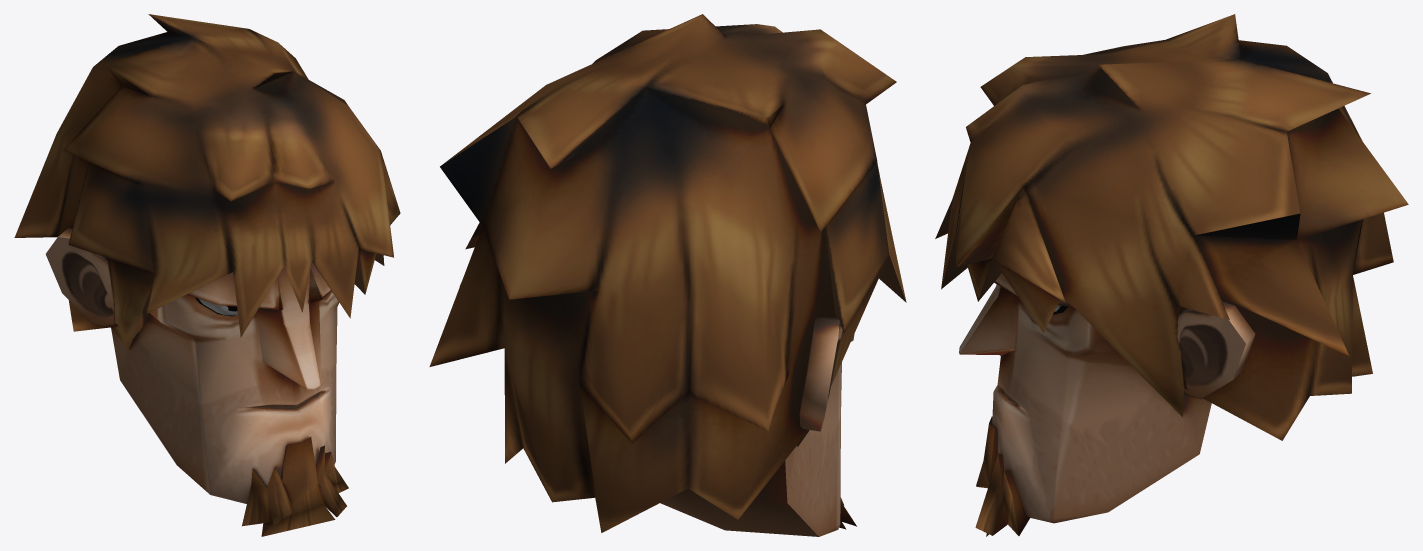
Rendered from IT_PLY_ST_0011_JohnDoe_11.FBX.
The picture shows the model from 3 angles, left to right: view 1: azimuth 30°, elevation 25°; view 2: azimuth 150°, elevation 25°; view 3: azimuth 270°, elevation 25°; orthographic projection. The views are drawn at different scales.
Visible parts, largest first — view 1: IT_PLY_ST_0011_JohnDoe_11; view 2: IT_PLY_ST_0011_JohnDoe_11; view 3: IT_PLY_ST_0011_JohnDoe_11.
Boxes of the visible parts, x1,y1,x2,y2 form: IT_PLY_ST_0011_JohnDoe_11: (14, 14, 400, 536); IT_PLY_ST_0011_JohnDoe_11: (429, 14, 906, 536); IT_PLY_ST_0011_JohnDoe_11: (935, 14, 1408, 536).
Size of the model in its own units: 24.4 by 33.7 by 31.02.
